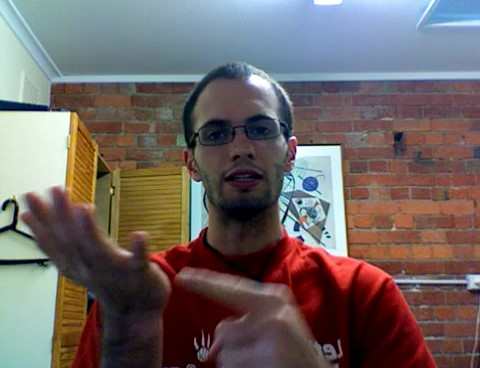T: (14, 181, 307, 368)
